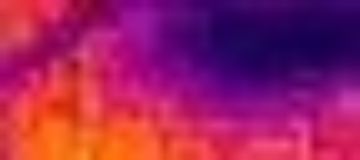Shadow: (114, 1, 360, 104)
